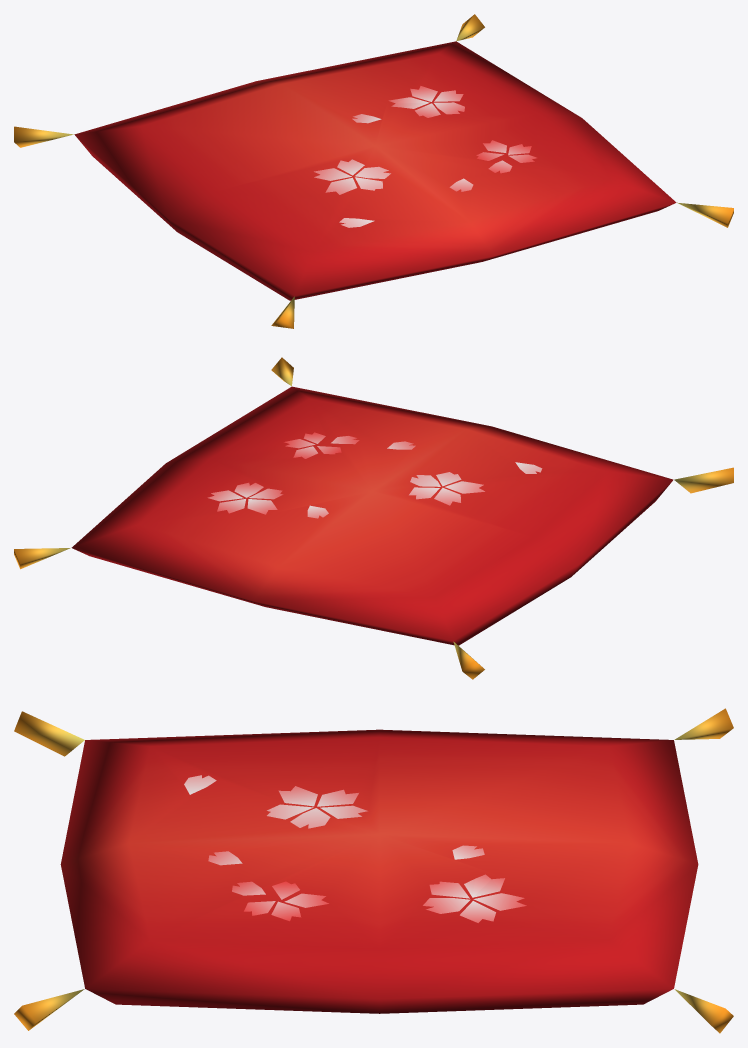
File: SK_Cushion_001.FBX
3 views of the same model, one above another, from view 1: azimuth 30°, elevation 25°; view 2: azimuth 150°, elevation 25°; view 3: azimuth 270°, elevation 25° (orthographic). The views are drawn at different scales.
Parts seen in each view (by area): view 1: SK_Cushion_001; view 2: SK_Cushion_001; view 3: SK_Cushion_001.
Boxes of the visible parts, x1,y1,x2,y2 form: SK_Cushion_001: (14, 14, 733, 328); SK_Cushion_001: (14, 357, 733, 679); SK_Cushion_001: (14, 708, 733, 1033).
Size of the model in its own units: 82.89 by 6.65 by 82.14.
1 material, 1 textured.
